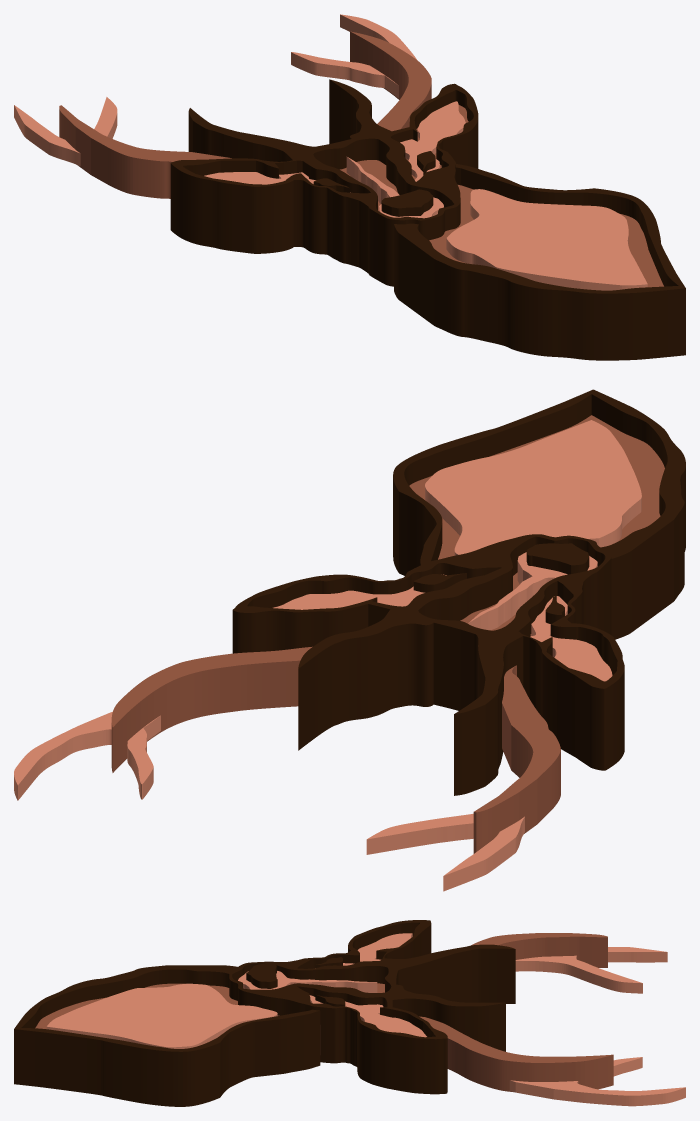
The model's file is deer_layer_v2.glb.
3 views of the same model, one above another, from view 1: azimuth 30°, elevation 25°; view 2: azimuth 150°, elevation 25°; view 3: azimuth 270°, elevation 25° (orthographic). The views are drawn at different scales.
Parts seen in each view (by area): view 1: Curve.026, Curve.030, liggtbrown, medbrown, antler2, liggtbrown.003, nose, liggtbrown.001, liggtbrown.002, eyes; view 2: Curve.026, medbrown, Curve.030, liggtbrown, antler2, liggtbrown.001, liggtbrown.002, liggtbrown.003, nose, eyes; view 3: Curve.026, Curve.030, medbrown, liggtbrown, antler2, liggtbrown.003, liggtbrown.001, liggtbrown.002, nose, eyes.
Boxes of the visible parts, <box> form: Curve.026: <box>170,79,478,286</box>; Curve.030: <box>394,164,685,360</box>; liggtbrown: <box>446,189,647,290</box>; medbrown: <box>59,31,663,287</box>; antler2: <box>14,14,416,165</box>; liggtbrown.003: <box>400,101,465,181</box>; nose: <box>381,189,433,216</box>; liggtbrown.001: <box>346,156,443,218</box>; liggtbrown.002: <box>204,172,350,192</box>; eyes: <box>313,151,435,192</box>; Curve.026: <box>232,534,624,795</box>; medbrown: <box>111,415,664,853</box>; Curve.030: <box>393,389,685,639</box>; liggtbrown: <box>425,420,641,555</box>; antler2: <box>14,711,524,891</box>; liggtbrown.001: <box>468,552,597,630</box>; liggtbrown.002: <box>530,596,612,681</box>; liggtbrown.003: <box>273,574,446,609</box>; nose: <box>526,543,589,574</box>; eyes: <box>413,573,564,623</box>; Curve.026: <box>229,920,515,1094</box>; Curve.030: <box>14,965,320,1106</box>; medbrown: <box>35,933,613,1092</box>; liggtbrown: <box>46,983,277,1048</box>; antler2: <box>509,947,685,1106</box>; liggtbrown.003: <box>309,995,426,1037</box>; liggtbrown.001: <box>238,971,377,992</box>; liggtbrown.002: <box>343,933,412,965</box>; nose: <box>246,963,277,988</box>; eyes: <box>315,957,345,1006</box>.
Size of the model in its own units: 60.69 by 11.69 by 116.
